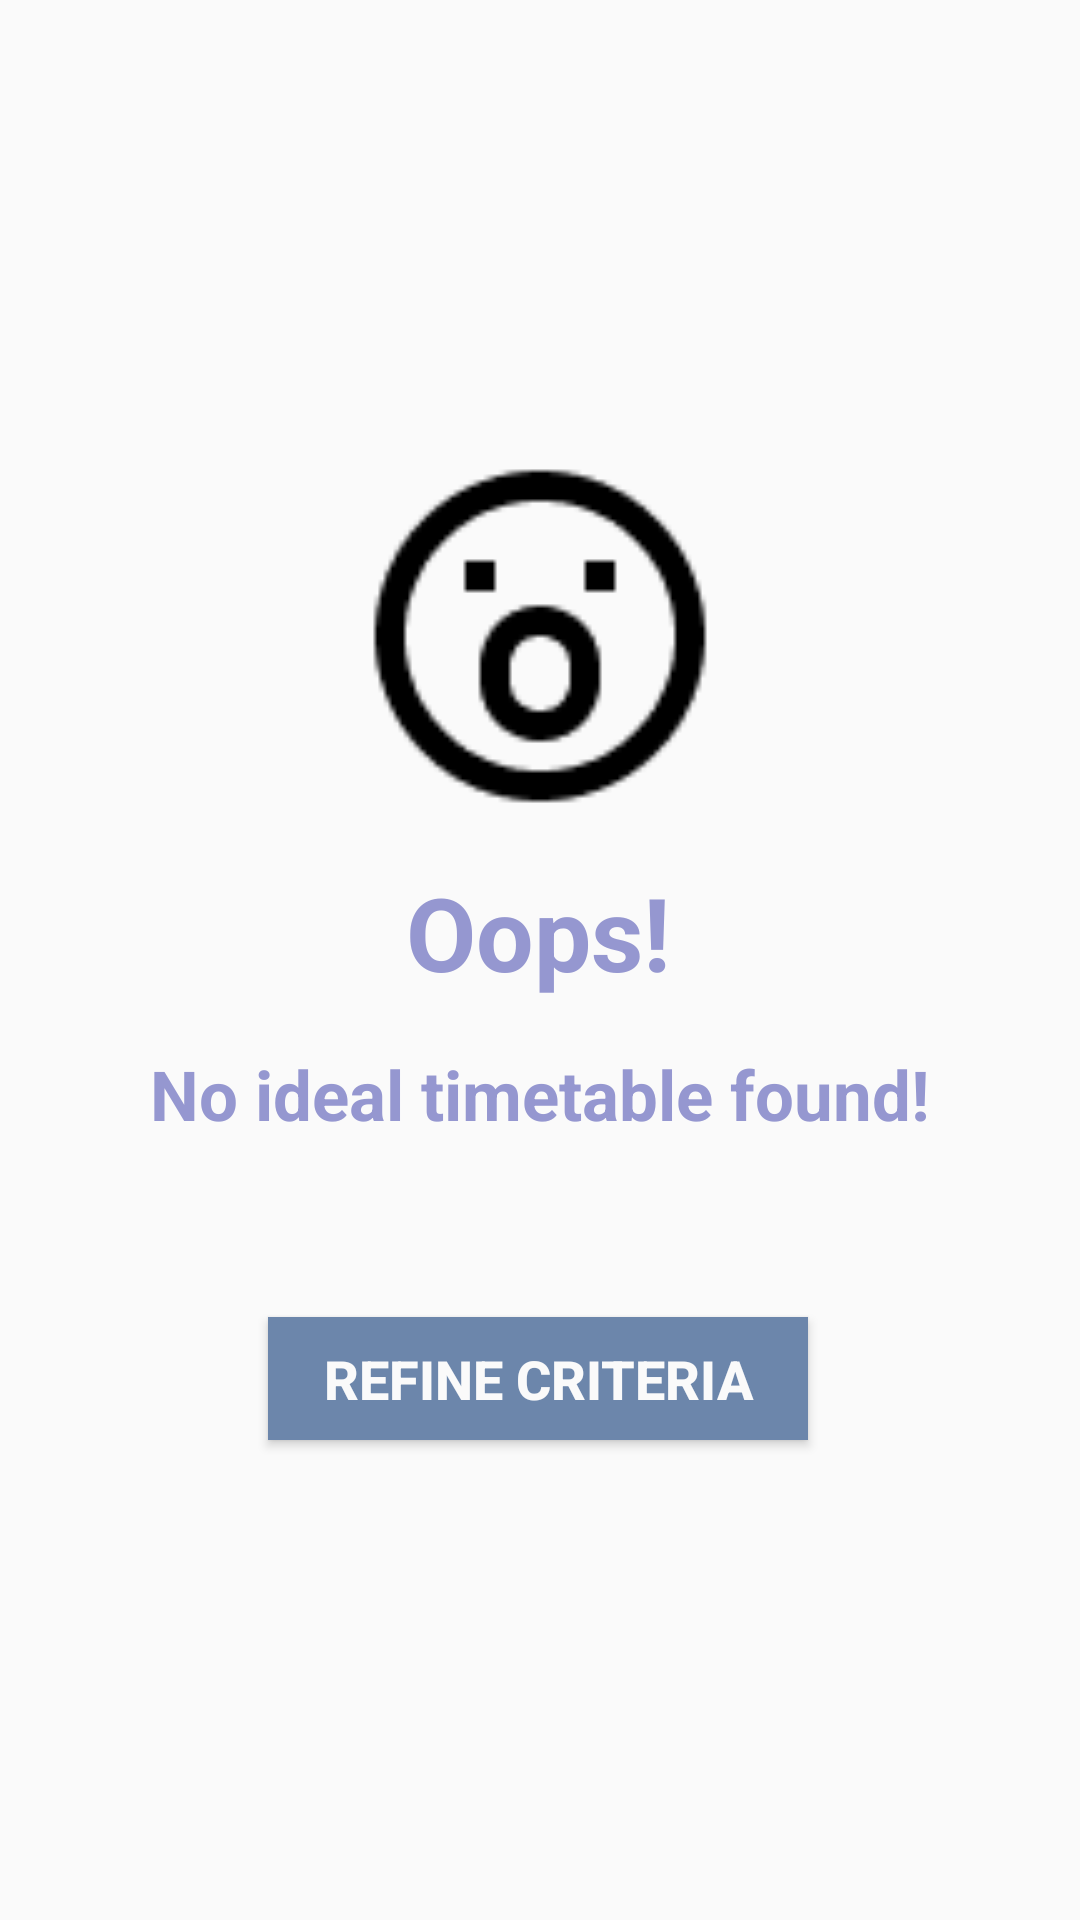

Named icons in this screenshot (1080*1920) and their centers, point (x, y):
shocked: point (540, 636)
